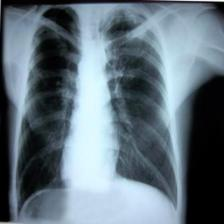tuberculosis: (10, 3, 187, 224)
